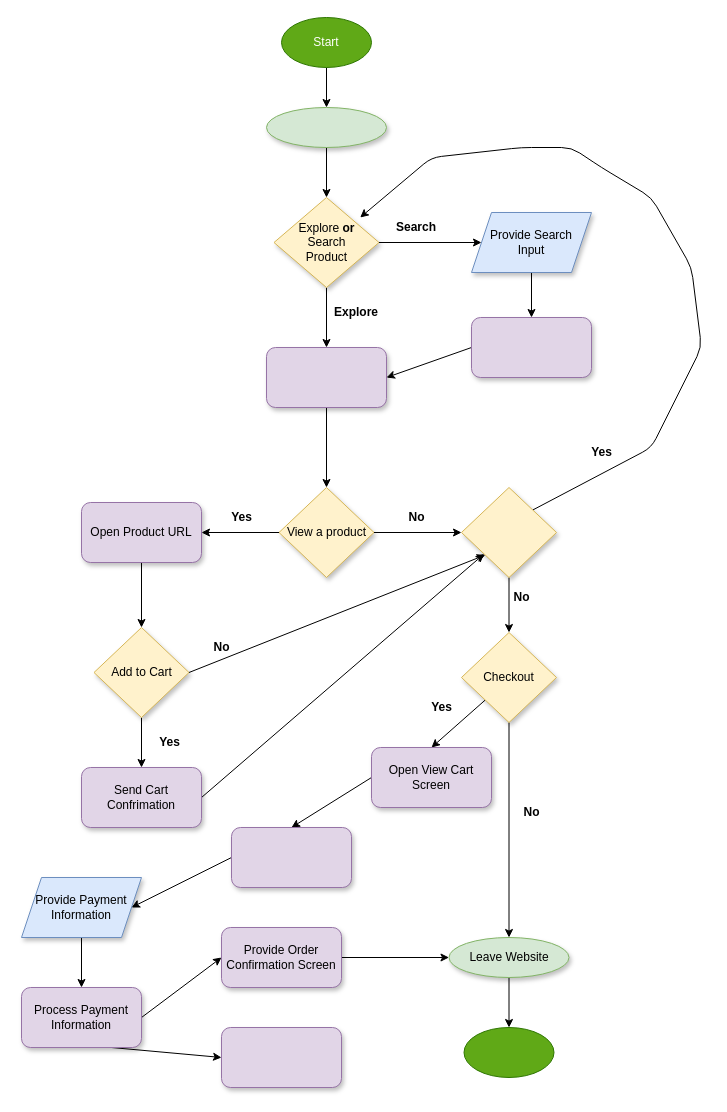
This 727x1112 diagram has some shape labels left out. Each missing label, with the centre of its shape:
"Continue Shopping" goes at (x=509, y=533).
"End" goes at (x=508, y=1052).
"Enter Website" goes at (x=327, y=128).
"Explore Products" goes at (x=327, y=378).
"Open View Payment Screen" goes at (x=292, y=858).
"Process Input" goes at (x=532, y=348).
"Send Receipt to Email" goes at (x=282, y=1058).
